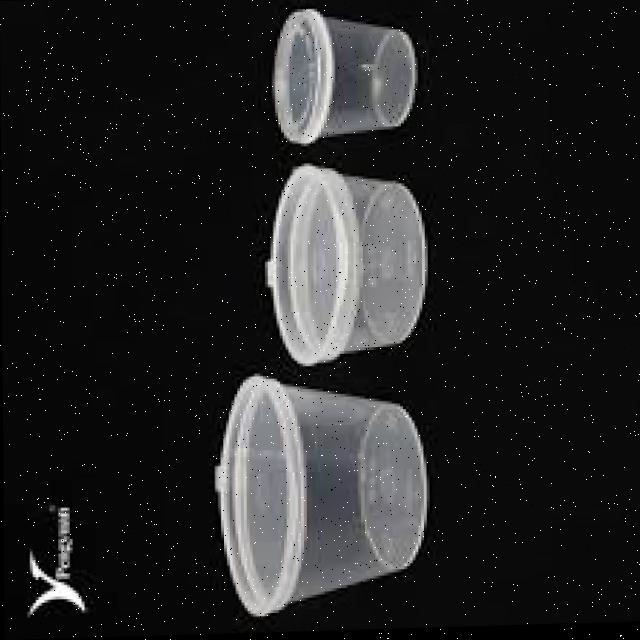disposable: (212, 378, 438, 613), (258, 145, 435, 373), (266, 6, 428, 145)
